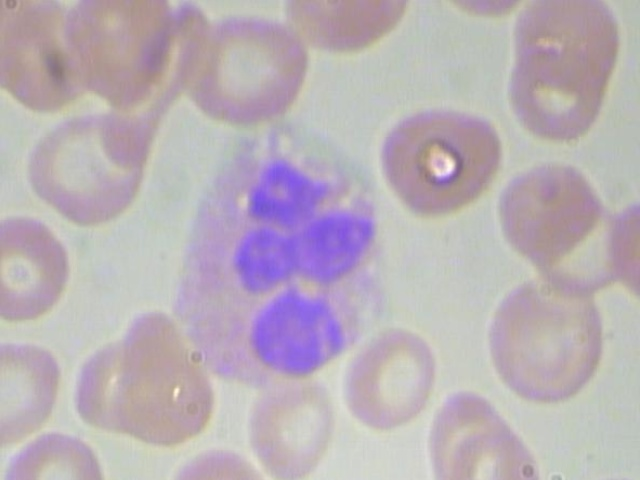RBC: (361, 94, 516, 226), (475, 271, 620, 405), (174, 15, 319, 125), (28, 110, 147, 226), (336, 324, 440, 432), (0, 208, 78, 340), (242, 377, 332, 480), (0, 336, 64, 454), (0, 422, 124, 480), (427, 420, 545, 480)
WBC: (165, 124, 402, 390)
